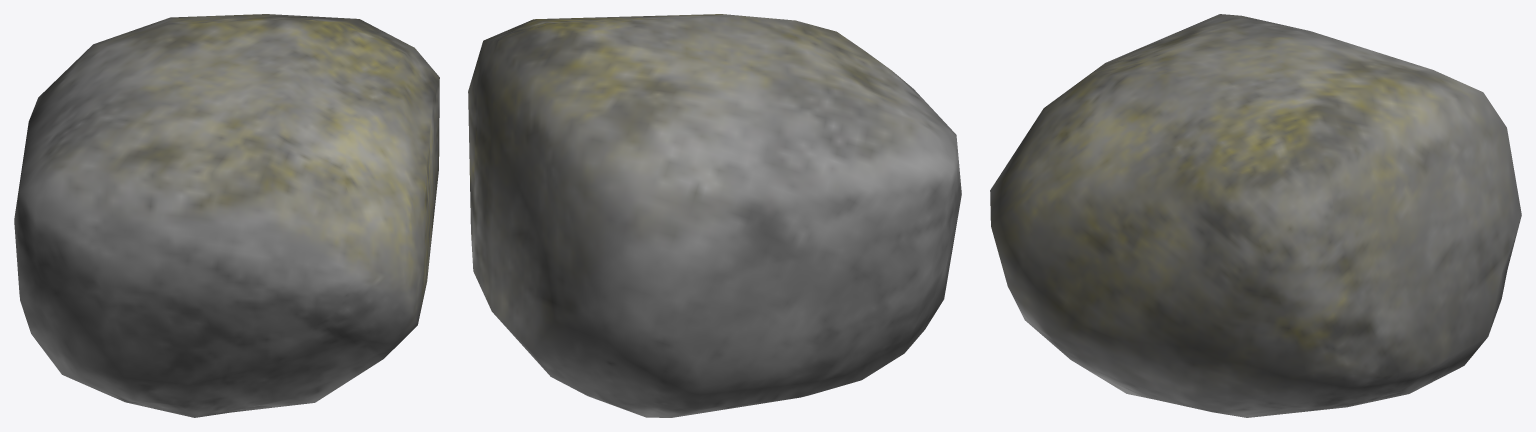
Rendered from rock7.fbx.
3 views of the same model, side by side, from view 1: azimuth 30°, elevation 25°; view 2: azimuth 150°, elevation 25°; view 3: azimuth 270°, elevation 25° (orthographic). The views are drawn at different scales.
Parts seen in each view (by area): view 1: kamenmaly3_lp.001; view 2: kamenmaly3_lp.001; view 3: kamenmaly3_lp.001.
Boxes of the visible parts, bbox=[...] form: kamenmaly3_lp.001: bbox=[14, 14, 439, 417]; kamenmaly3_lp.001: bbox=[468, 14, 961, 417]; kamenmaly3_lp.001: bbox=[990, 14, 1521, 417].
Size of the model in its own units: 33.85 by 23.94 by 34.02.
